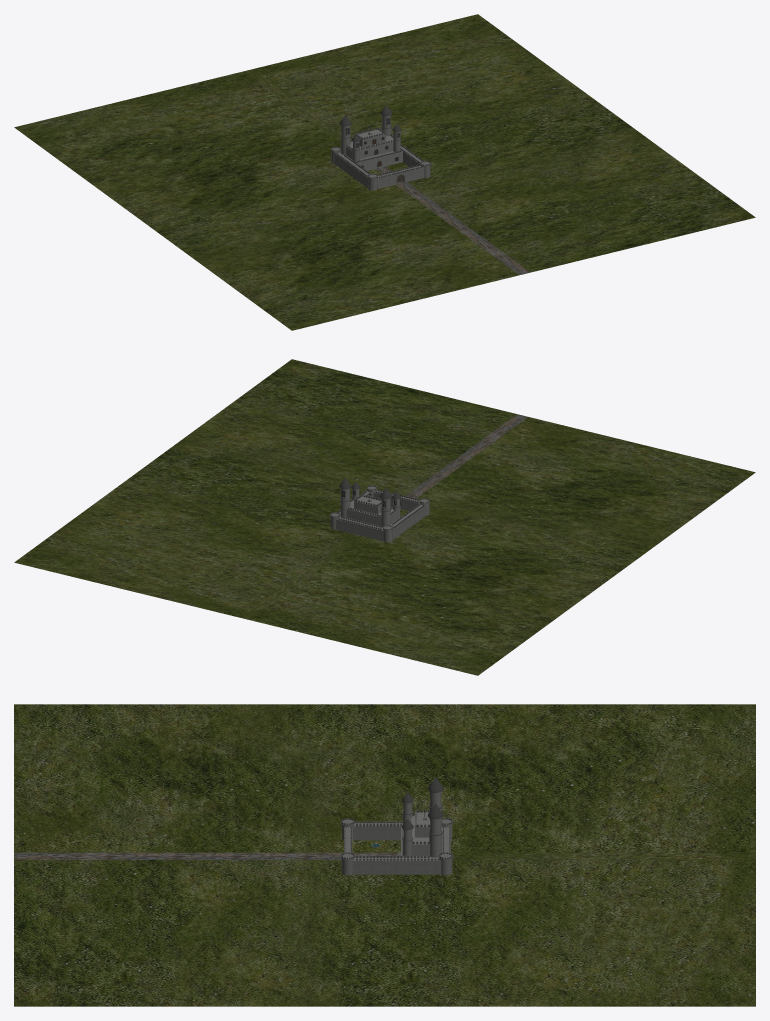
The model's file is Castle OBJ2.obj.
The picture shows the model from 3 angles, top to bottom: view 1: azimuth 30°, elevation 25°; view 2: azimuth 150°, elevation 25°; view 3: azimuth 270°, elevation 25°; orthographic projection. The views are drawn at different scales.
Parts seen in each view (by area): view 1: Castle_OBJ; view 2: Castle_OBJ; view 3: Castle_OBJ.
Boxes of the visible parts, box(x1,y1,x2,y2) form: Castle_OBJ: box(14, 14, 755, 330); Castle_OBJ: box(14, 359, 755, 675); Castle_OBJ: box(14, 704, 755, 1006).
Size of the model in its own units: 399 by 40.27 by 414.
4 materials, 4 textured.
